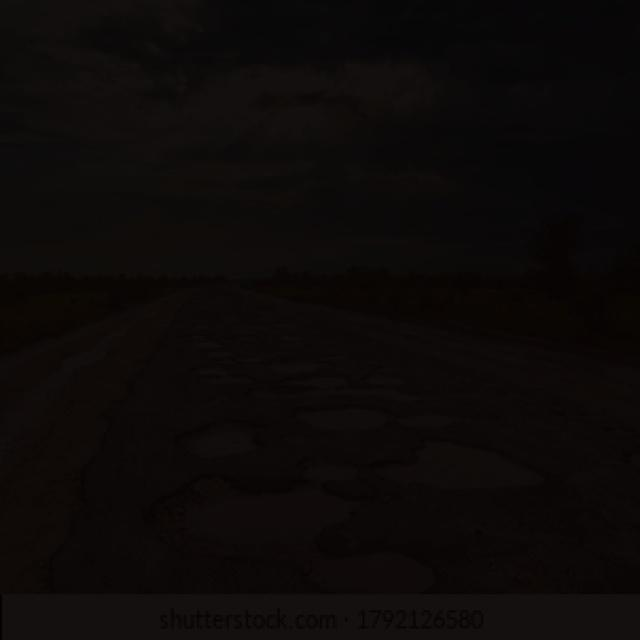Pothole: (134, 462, 440, 594), (377, 432, 547, 493), (299, 399, 472, 437), (168, 421, 276, 458), (265, 362, 352, 396), (188, 360, 256, 389), (242, 328, 305, 351), (190, 330, 232, 361), (358, 369, 408, 389)
